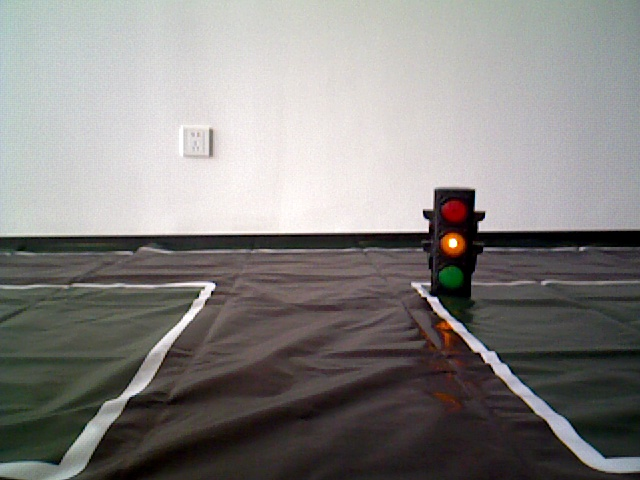yellow: (433, 184, 475, 297)
